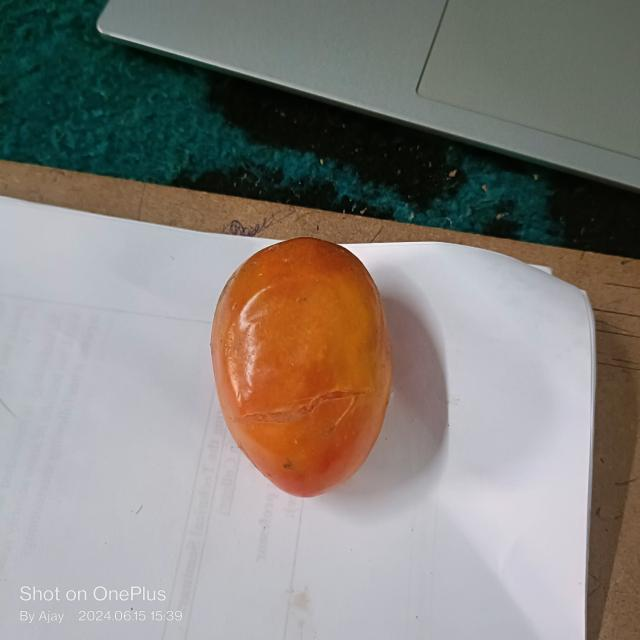Botrytis: (228, 389, 366, 419)
